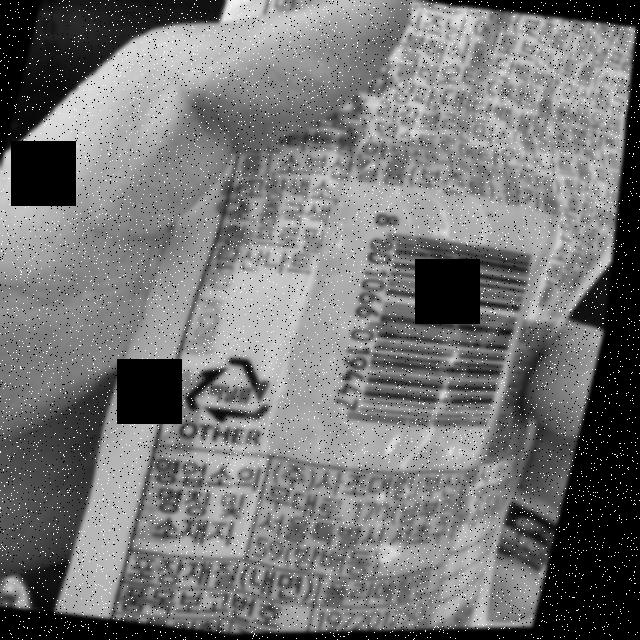Vinyl: (184, 348, 293, 434)
